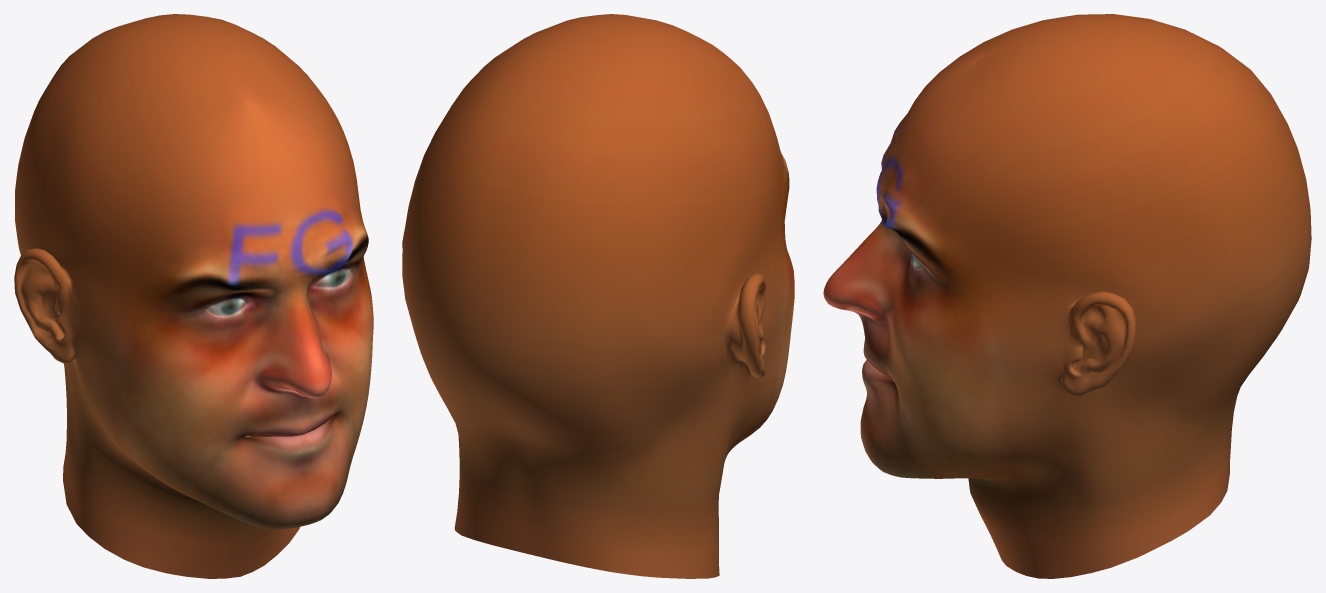
File: avg_anyrace_male_07.obj
The picture shows the model from 3 angles, left to right: view 1: azimuth 30°, elevation 25°; view 2: azimuth 150°, elevation 25°; view 3: azimuth 270°, elevation 25°; orthographic projection. The views are drawn at different scales.
Visible parts, largest first — view 1: HeadHires; view 2: HeadHires; view 3: HeadHires.
Boxes of the visible parts, x1=… form: HeadHires: x1=14, y1=14, x2=373, y2=578; HeadHires: x1=402, y1=14, x2=794, y2=578; HeadHires: x1=823, y1=14, x2=1311, y2=578.
Bounding box in the file's own units: 189 × 283 × 238.
1 material, 1 textured.
